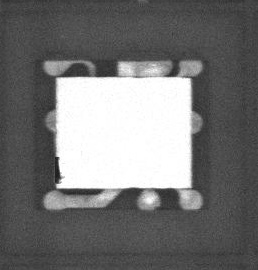DIE_BROKEN: (52, 154, 64, 185)
